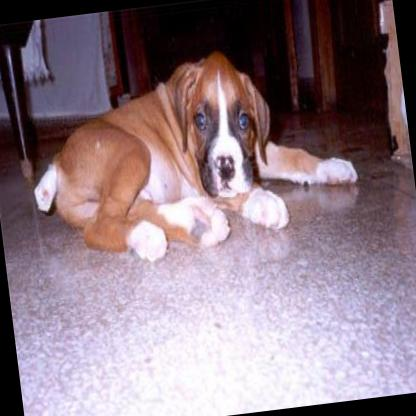boxer: (10, 20, 364, 272)
